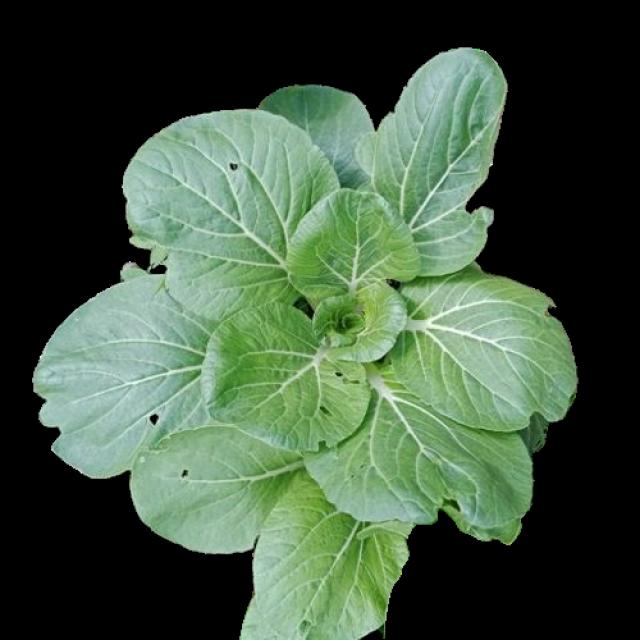mature: (36, 50, 576, 640)
unhealthy: (126, 105, 327, 306), (305, 360, 522, 526), (202, 302, 369, 449), (130, 429, 272, 557)
